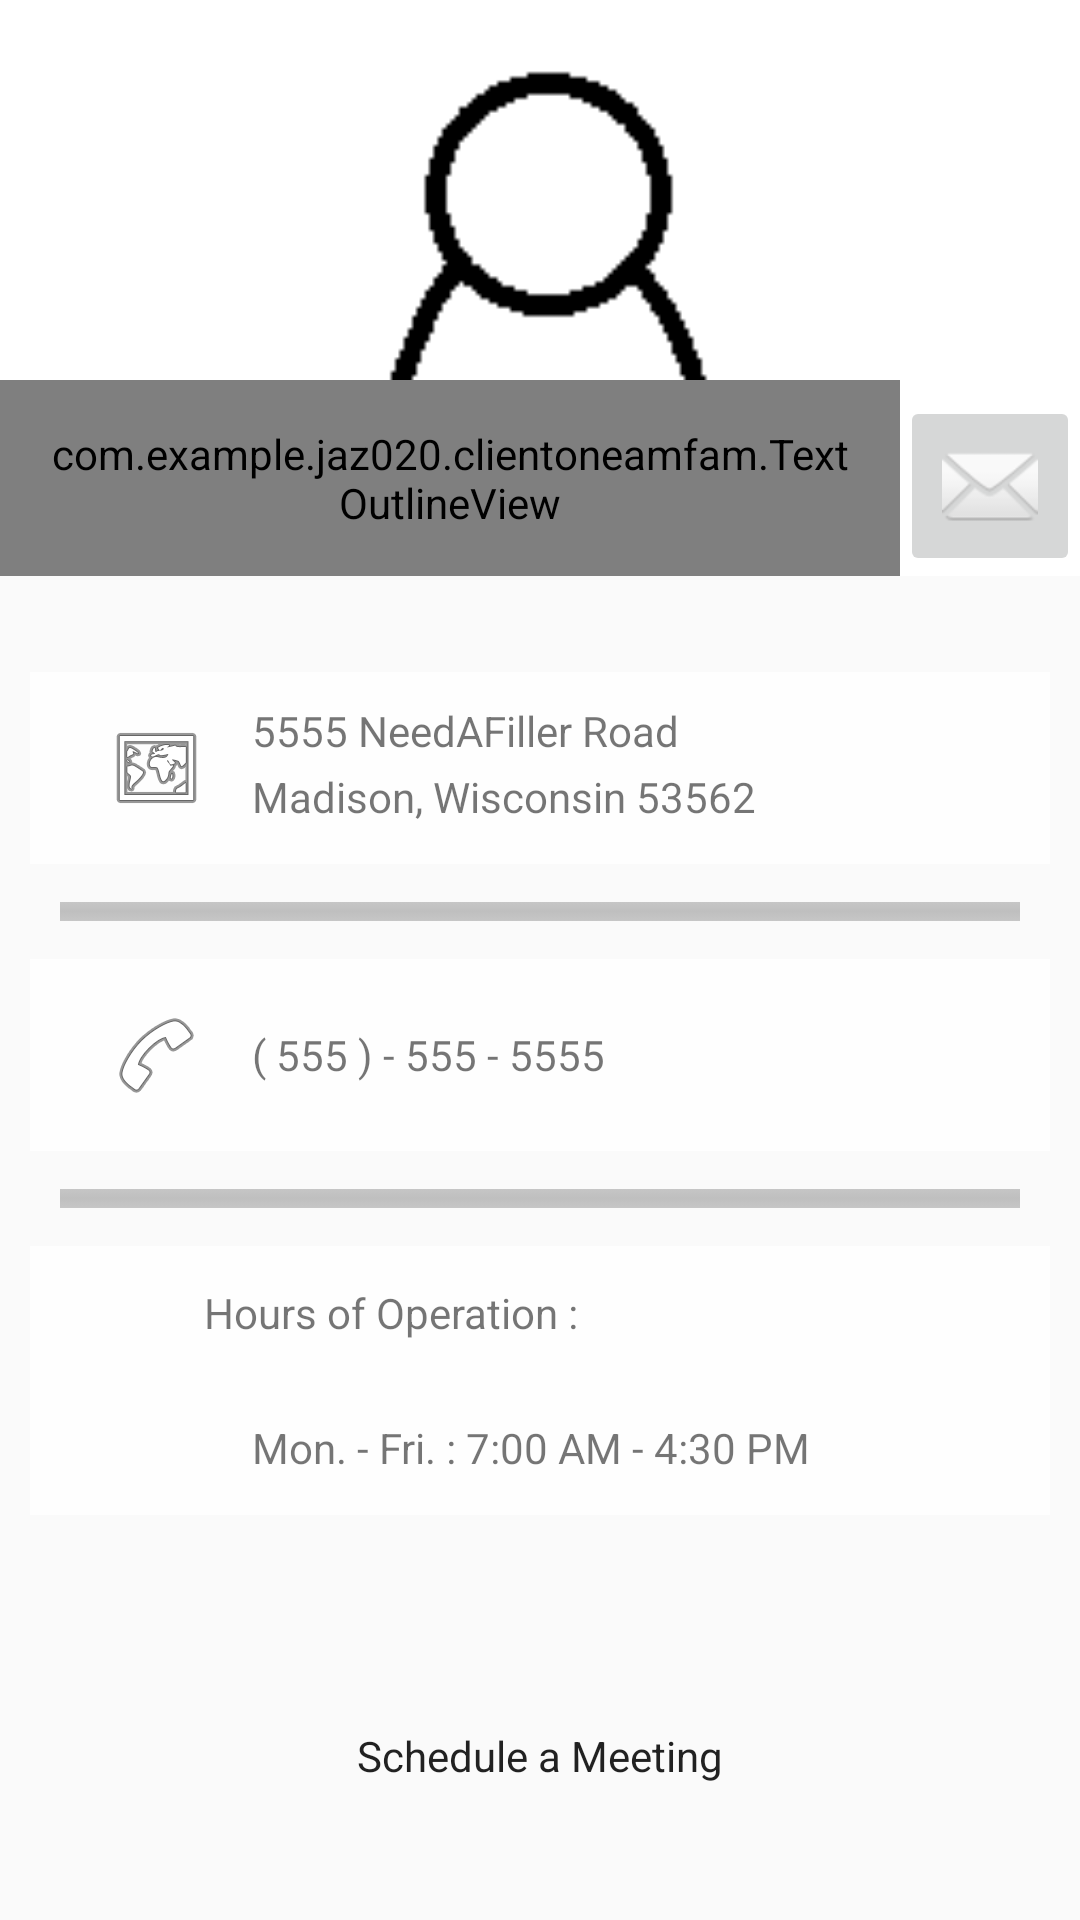

Screen size 1080×1920. Icon name, then its center in pixels as (x,y):
call: (156,1055)
Email: (990,486)
mapmode: (156,768)
